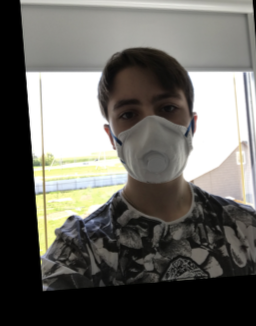with_mask: (107, 84, 196, 184)
